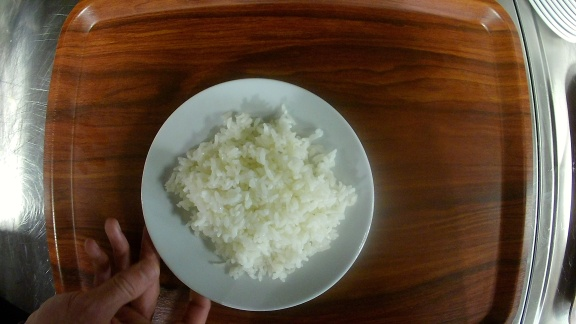pilav: (139, 79, 376, 308)
